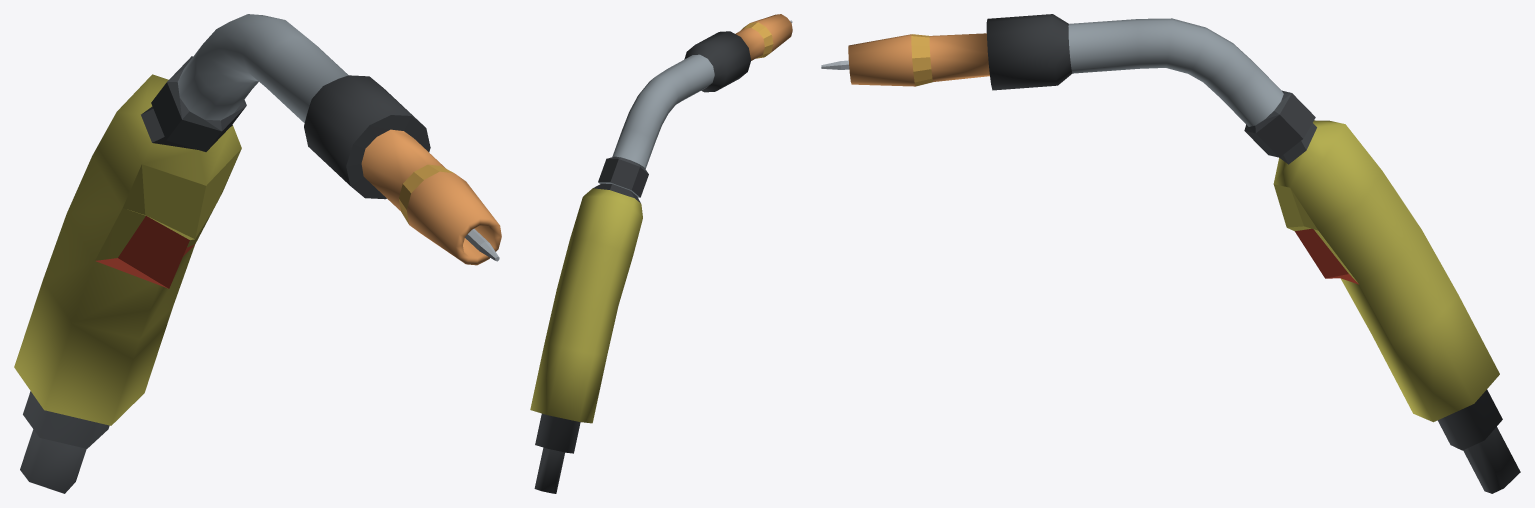
File: X_MigWelder.fbx
3 views of the same model, side by side, from view 1: azimuth 30°, elevation 25°; view 2: azimuth 150°, elevation 25°; view 3: azimuth 270°, elevation 25° (orthographic). The views are drawn at different scales.
Parts seen in each view (by area): view 1: MIG_Handle__1_; view 2: MIG_Handle__1_; view 3: MIG_Handle__1_.
Part boxes in pixels (x1,y1,x2,y2): MIG_Handle__1_: (14,14,501,493); MIG_Handle__1_: (530,14,792,493); MIG_Handle__1_: (848,14,1520,493).
Bounding box in the file's own units: 2.29 × 13.75 × 18.48.
Materials: 1 (1 with a texture image).
